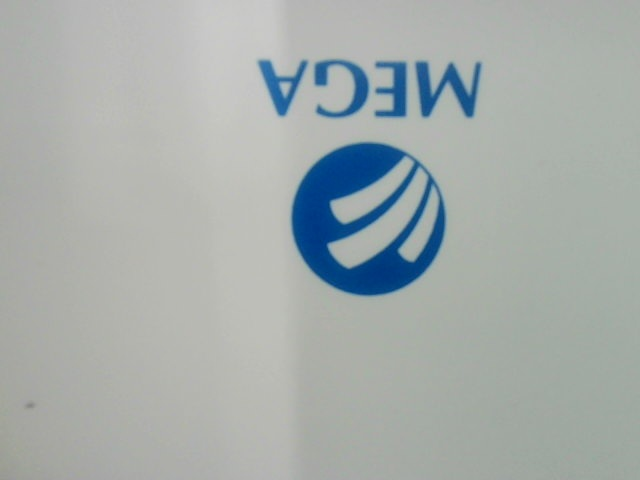AM_ZTEMEGA: (242, 41, 499, 313)
